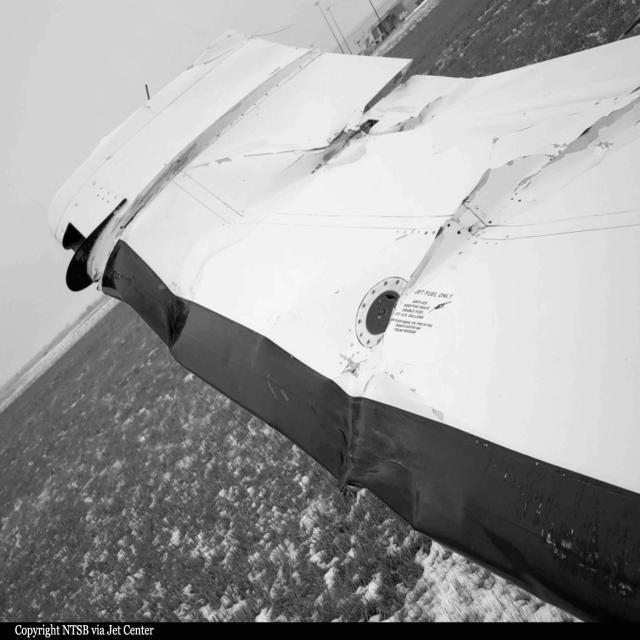crack: (311, 50, 441, 174), (403, 168, 496, 291), (520, 100, 640, 188)
